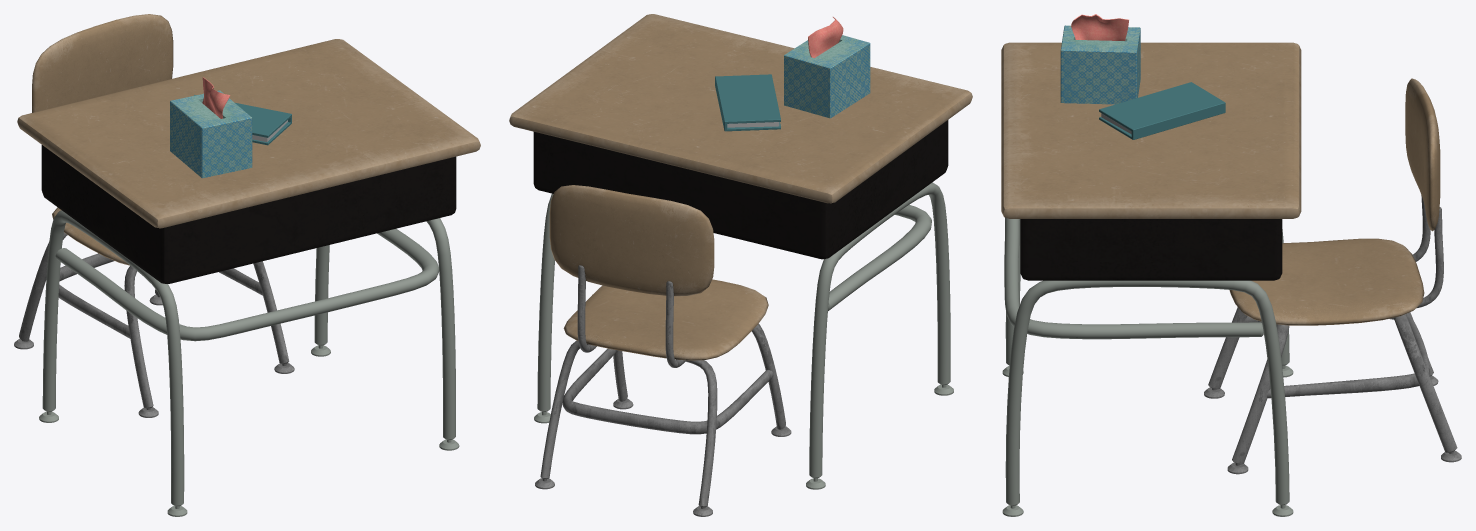
The model's file is desk.gltf.
The picture shows the model from 3 angles, left to right: view 1: azimuth 30°, elevation 25°; view 2: azimuth 150°, elevation 25°; view 3: azimuth 270°, elevation 25°; orthographic projection. The views are drawn at different scales.
Visible parts, largest first — view 1: pCube1; view 2: pCube1; view 3: pCube1.
Part boxes in pixels (<box>): pCube1: <box>14,14,480,516</box>; pCube1: <box>509,14,972,516</box>; pCube1: <box>1001,14,1461,516</box>.
Bounding box in the file's own units: 2.18 × 2.41 × 2.53.
Materials: 9 (6 with a texture image).
